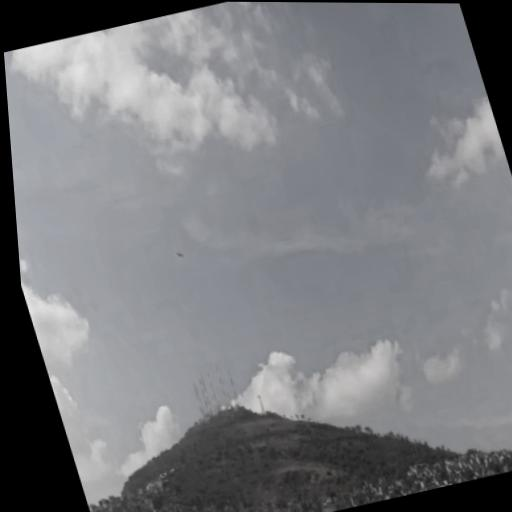drones: (172, 247, 187, 263)
